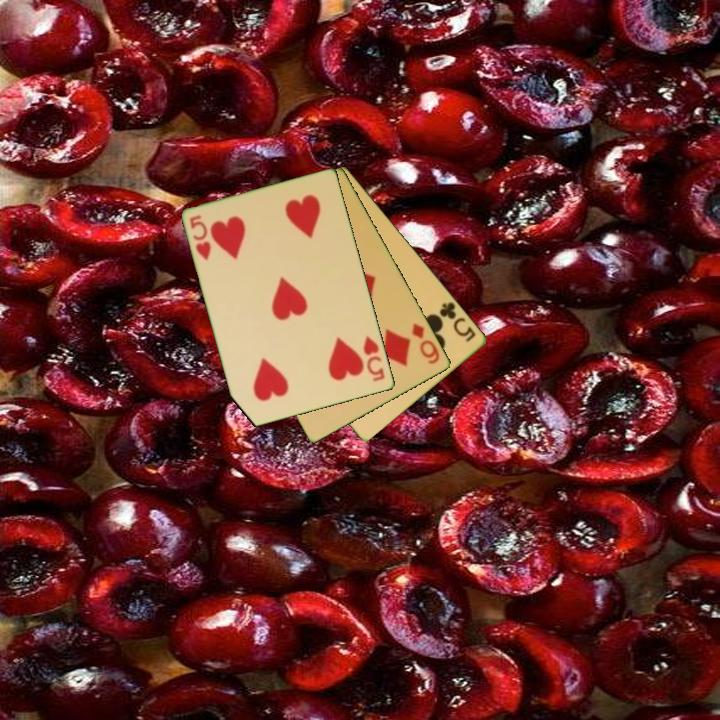5c: (434, 298, 479, 345)
5h: (360, 332, 388, 385), (186, 212, 214, 263)
6d: (408, 320, 443, 367)
